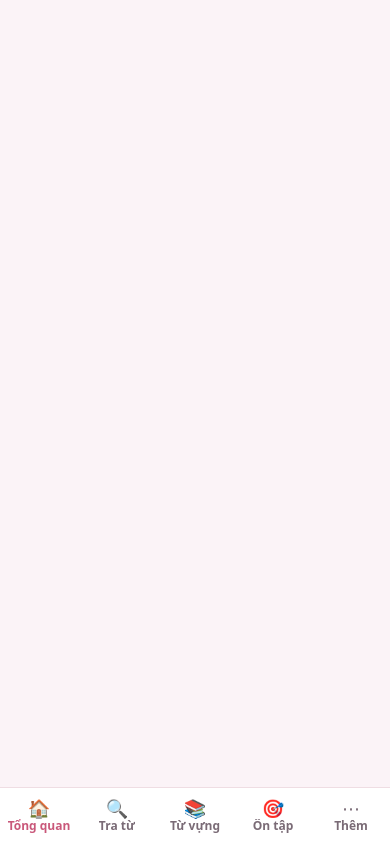
MobileTabBar › opens a dialog sheet listing the seven other areas
Click the button "⋯ Thêm" at (351, 816), box [312,788,389,843]
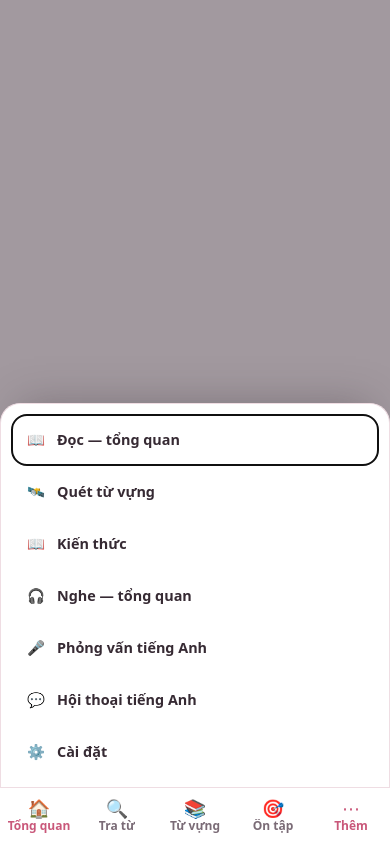
Expected: the button "⋯ Thêm" is expanded, [312,788,389,843]
